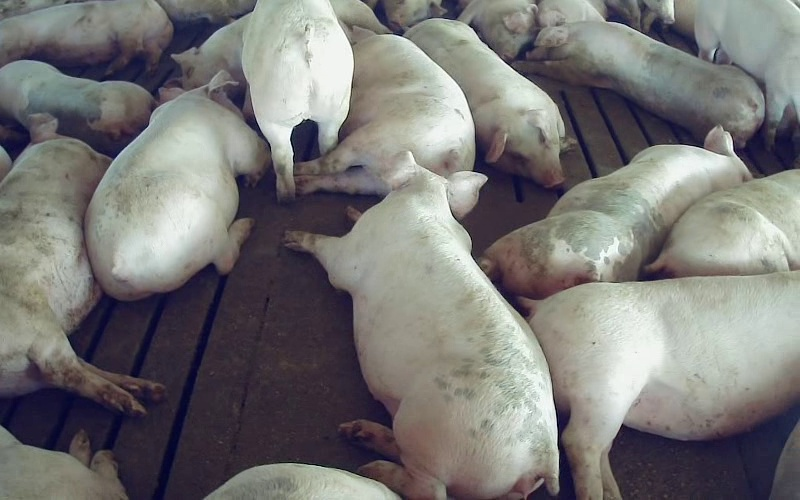pig: (286, 151, 556, 499), (519, 271, 799, 499), (0, 114, 162, 414), (479, 126, 750, 298), (85, 70, 269, 300), (516, 21, 763, 147), (295, 26, 474, 195), (404, 18, 564, 187), (645, 169, 799, 276), (694, 0, 799, 148), (0, 0, 172, 74), (458, 0, 538, 61)
